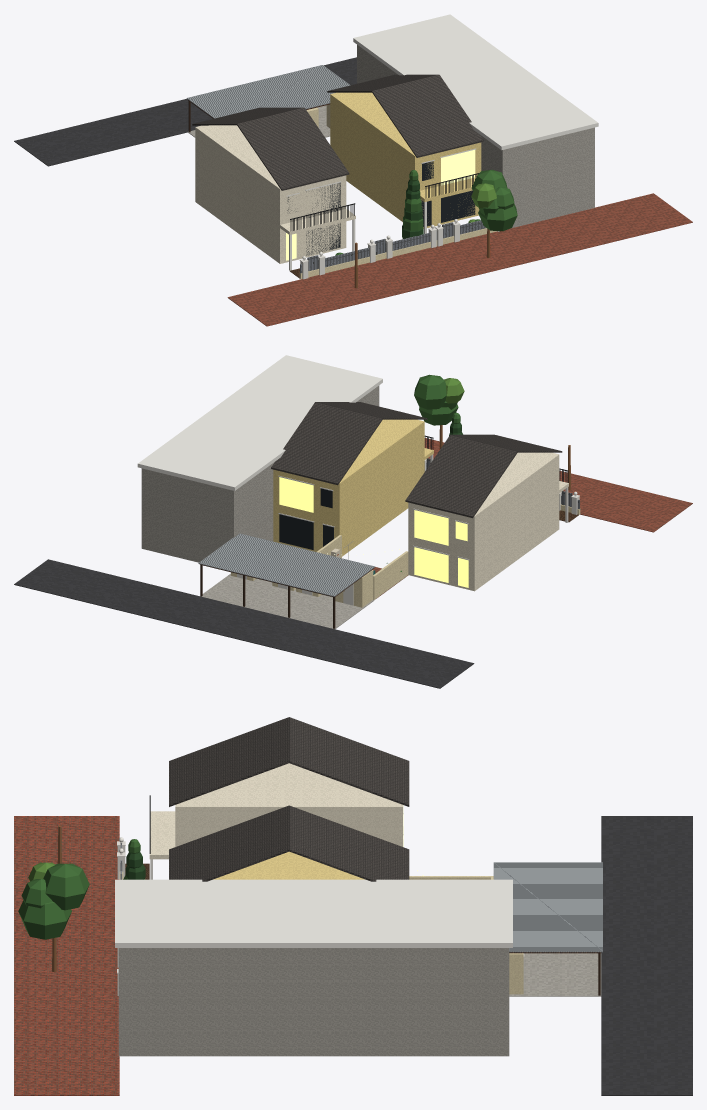
File: shenton_site.glb
3 views of the same model, one above another, from view 1: azimuth 30°, elevation 25°; view 2: azimuth 150°, elevation 25°; view 3: azimuth 270°, elevation 25° (orthographic). The views are drawn at different scales.
Parts seen in each view (by area): view 1: Site-col, Site, StreetTree2, PencilPine; view 2: Site-col, Site, StreetTree2; view 3: Site-col, Site, StreetTree2, PencilPine.
Part boxes in pixels (x1,y1,x2,y2): Site-col: (14,45,692,326); Site: (186,14,598,260); StreetTree2: (471,169,517,257); PencilPine: (402,170,423,238); Site-col: (14,385,692,688); Site: (137,355,568,597); StreetTree2: (414,374,464,449); Site-col: (14,763,692,1095); Site: (115,717,602,989); StreetTree2: (18,862,89,972); PencilPine: (123,839,145,879).
Size of the model in its own units: 36 by 9.02 by 37.
Materials: 38 (11 with a texture image).
